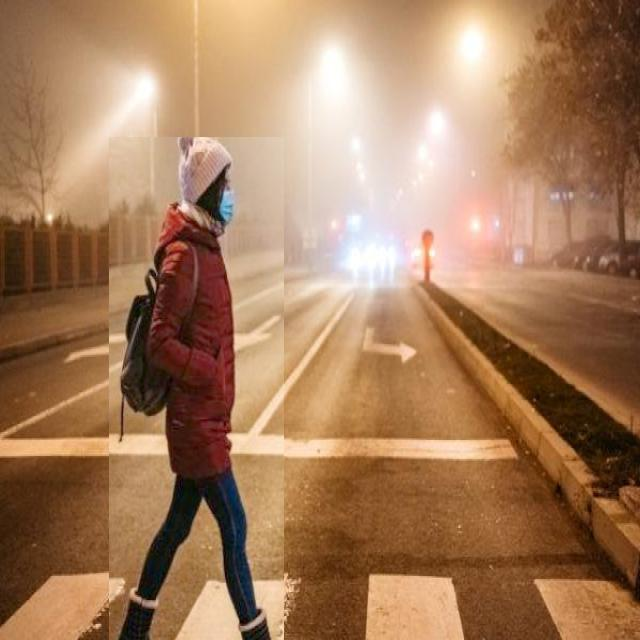without scooter: (109, 137, 284, 640)
